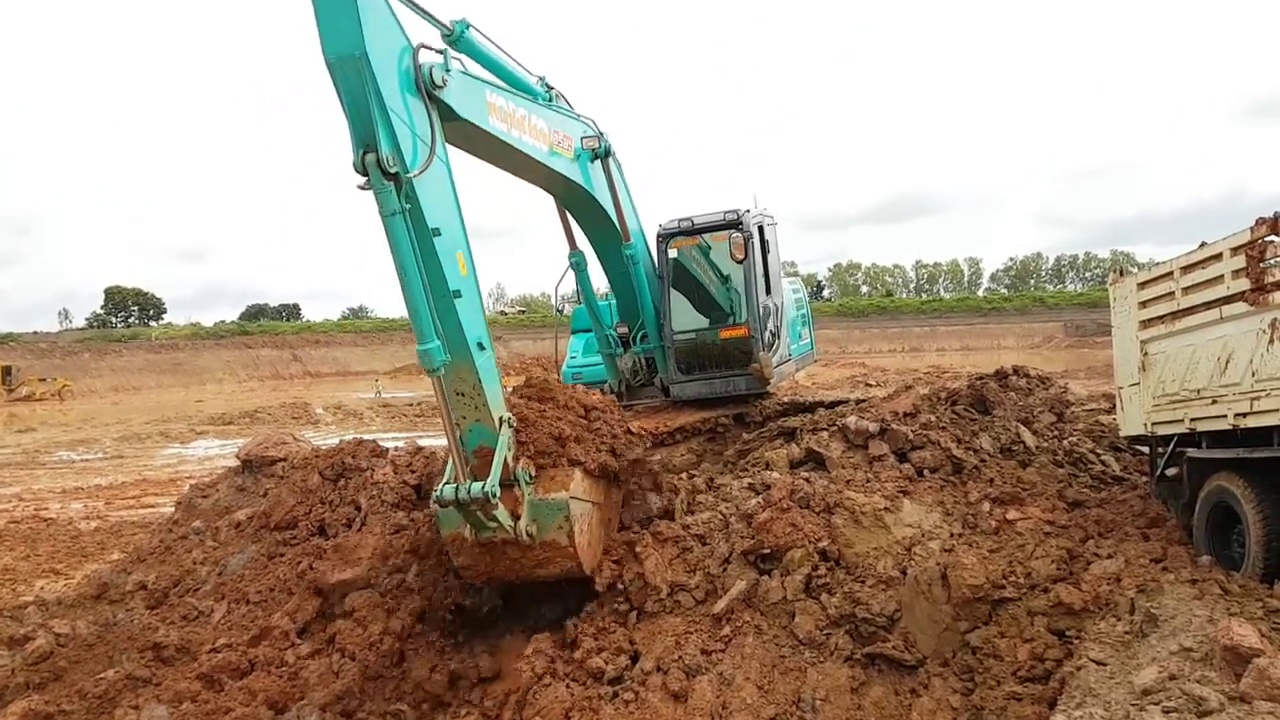excavator: (312, 3, 816, 582)
truck: (1088, 210, 1280, 593)
